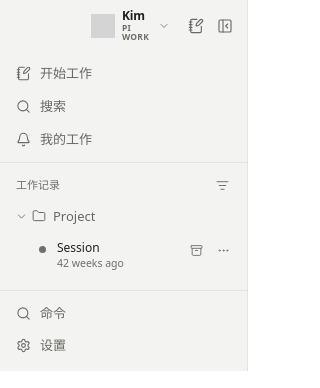
Scenario: sidebar project context menu › dismisses the sort menu when starting new work
Step 1. Click the button named "工作空间排序" → click(222, 185), box [210, 172, 235, 198]
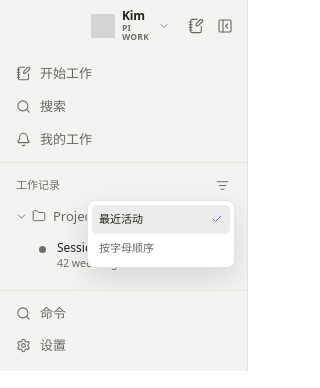
expect the menu item "最近活动" is shown: met, box [92, 204, 230, 234]
Step 2. Press the mouse on the button "开始工作" → (124, 73), box [8, 57, 239, 89]
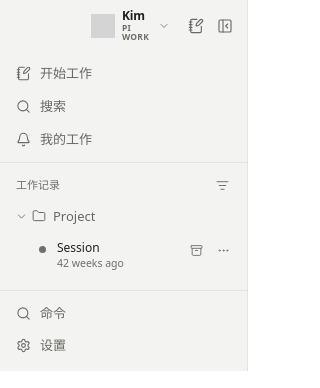
expect the menu item is gone: met
